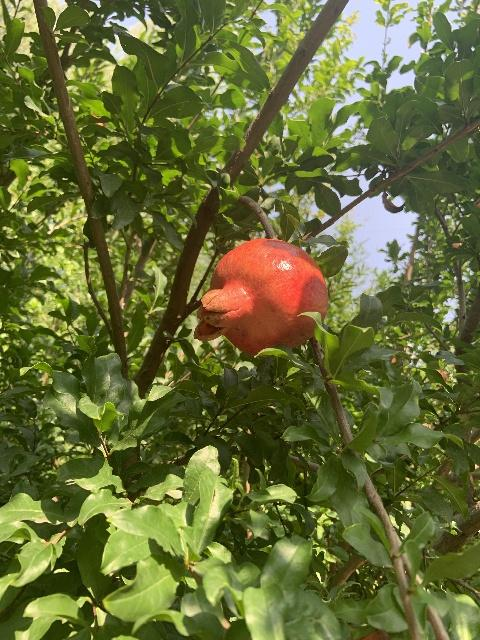ripe: (193, 238, 328, 356)
